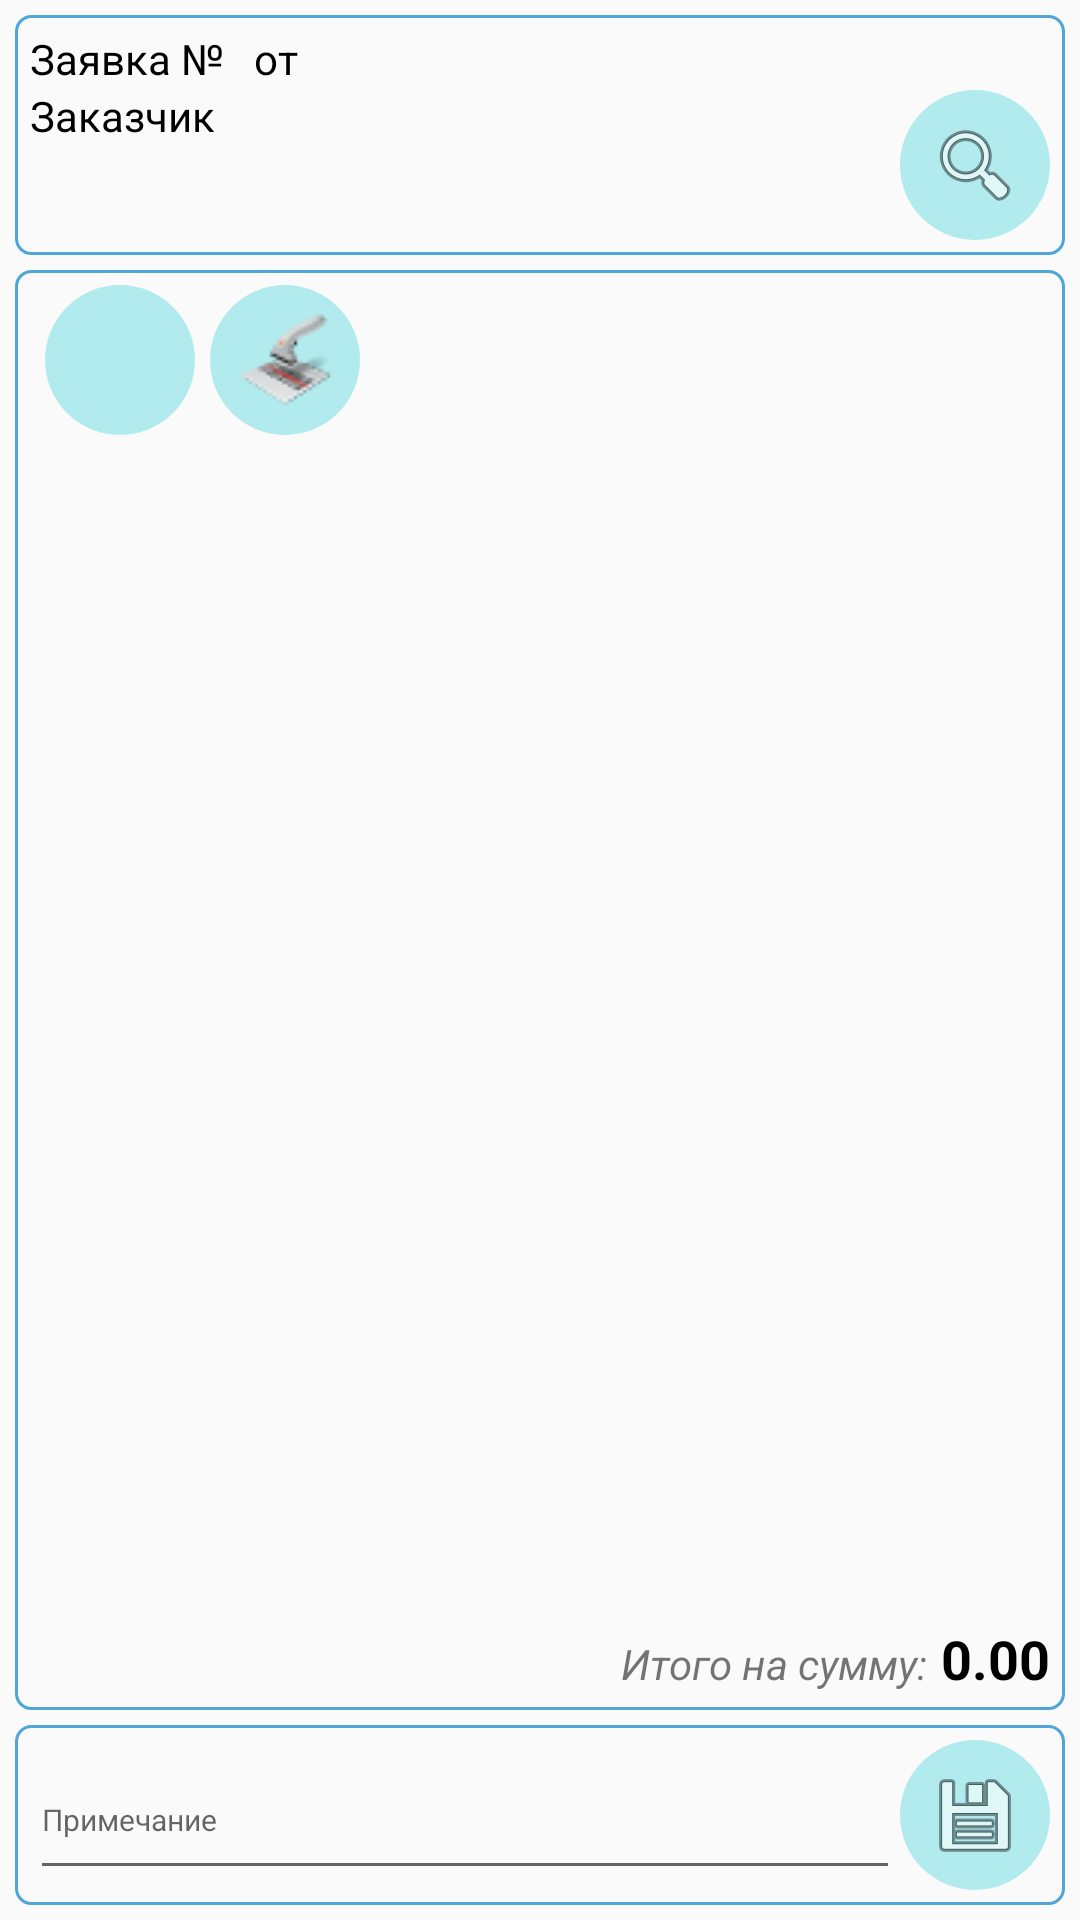

Point at icon controls on the screen. Image size 1080 × 1920, points as (x=x, y=y).
barcode: (x=285, y=360)
save: (x=975, y=1815)
search: (x=975, y=165)
